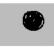correct: (21, 8, 47, 34)
